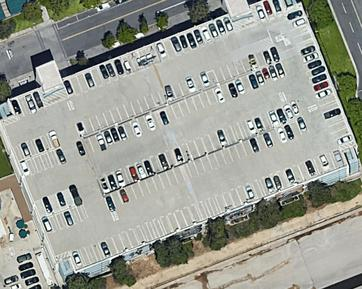parkingspot: (69, 147, 348, 271), (75, 60, 288, 158), (97, 99, 304, 196), (103, 116, 310, 213), (62, 14, 236, 99), (283, 8, 353, 149), (74, 70, 214, 140), (212, 44, 282, 85), (55, 0, 133, 30), (33, 184, 83, 220), (18, 146, 69, 180), (12, 129, 61, 163), (40, 203, 90, 236), (9, 90, 47, 123), (15, 253, 42, 289), (254, 0, 288, 24), (3, 273, 26, 289)
